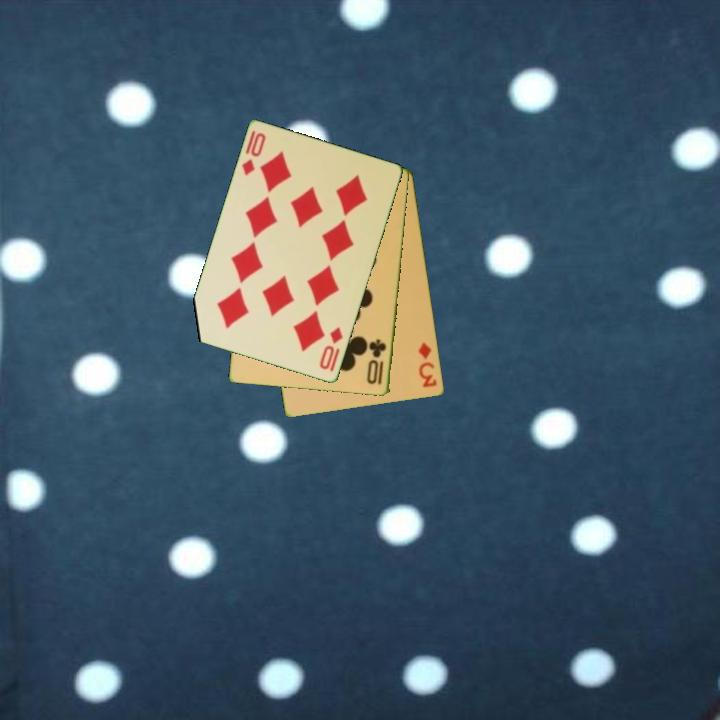10c: (364, 336, 390, 388)
10d: (238, 129, 269, 179), (316, 324, 346, 373)
3d: (415, 339, 440, 390)
